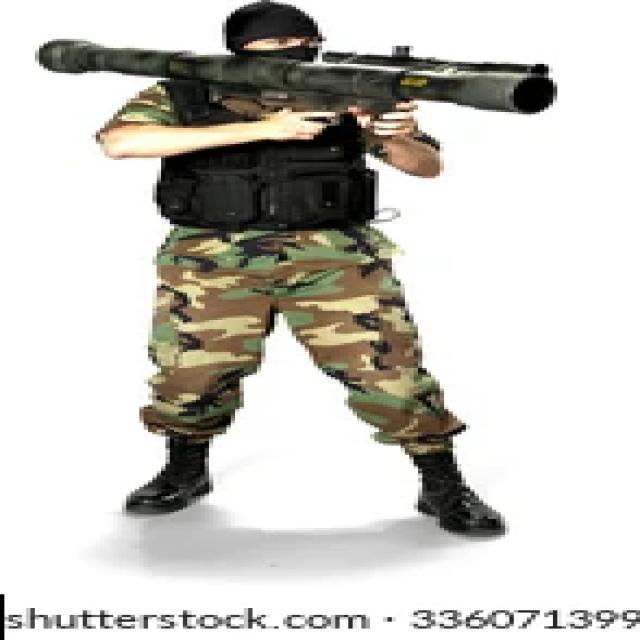soldier: (95, 3, 562, 554)
